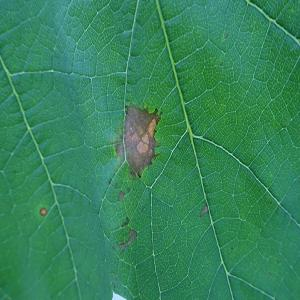Folha: (0, 0, 300, 299)
Fungo: (117, 102, 163, 178), (117, 228, 137, 251), (127, 228, 137, 244), (200, 204, 208, 217), (121, 216, 129, 226), (118, 190, 124, 201), (40, 207, 46, 215)
